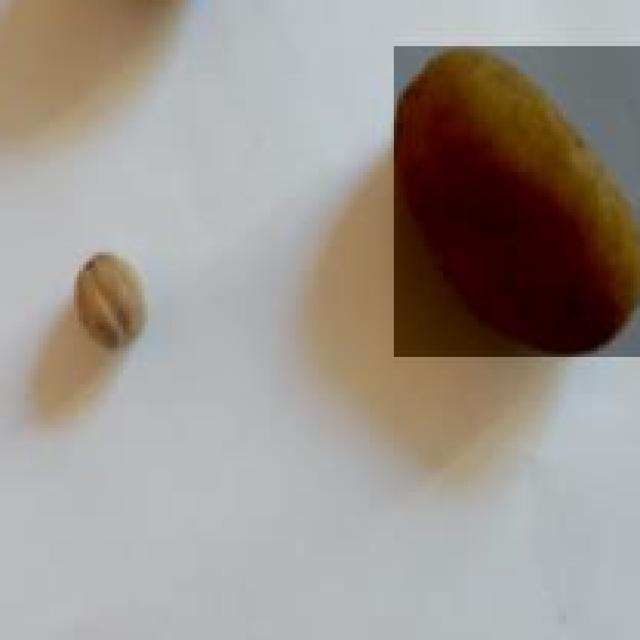potato: (391, 46, 640, 360)
